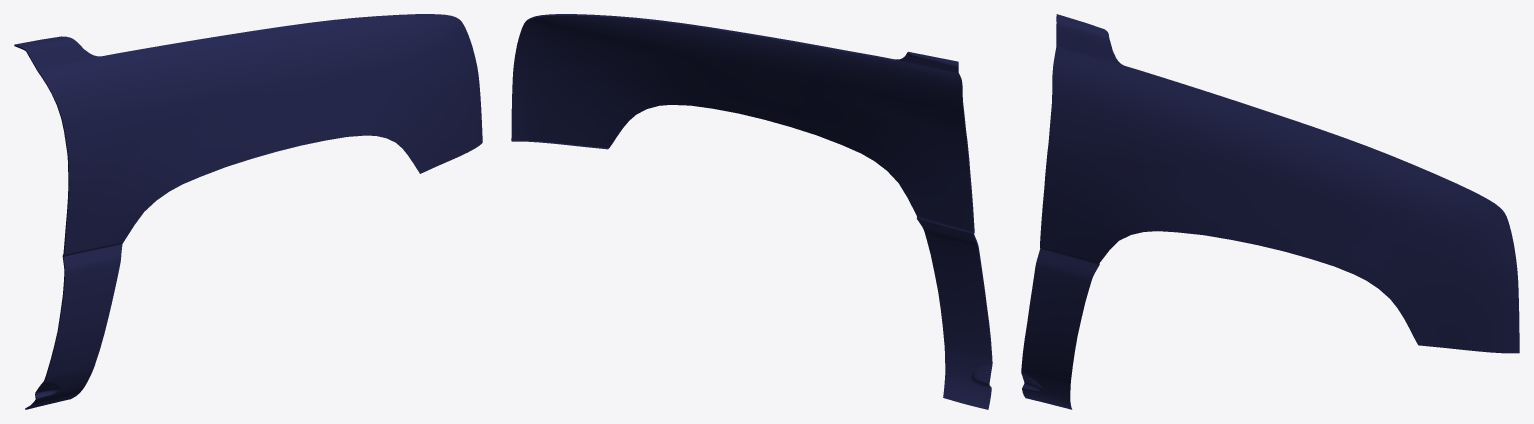
The picture shows the model from 3 angles, left to right: view 1: azimuth 30°, elevation 25°; view 2: azimuth 150°, elevation 25°; view 3: azimuth 330°, elevation 25°; orthographic projection. The views are drawn at different scales.
Visible parts, largest first — view 1: U803_3A_121B_R_1_DaS_U803_3A_121B_R, U803_3A_121B_R_1_DaS_U803_3A_121B_R_E; view 2: U803_3A_121B_R_1_DaS_U803_3A_121B_R, U803_3A_121B_R_1_DaS_U803_3A_121B_R_E; view 3: U803_3A_121B_R_1_DaS_U803_3A_121B_R.
Part boxes in pixels (<box>): U803_3A_121B_R_1_DaS_U803_3A_121B_R: <box>15,14,482,409</box>; U803_3A_121B_R_1_DaS_U803_3A_121B_R_E: <box>14,44,419,409</box>; U803_3A_121B_R_1_DaS_U803_3A_121B_R: <box>511,15,991,409</box>; U803_3A_121B_R_1_DaS_U803_3A_121B_R_E: <box>511,14,992,409</box>; U803_3A_121B_R_1_DaS_U803_3A_121B_R: <box>1021,14,1519,409</box>.
Size of the model in its own units: 112 by 81.17 by 15.85.
